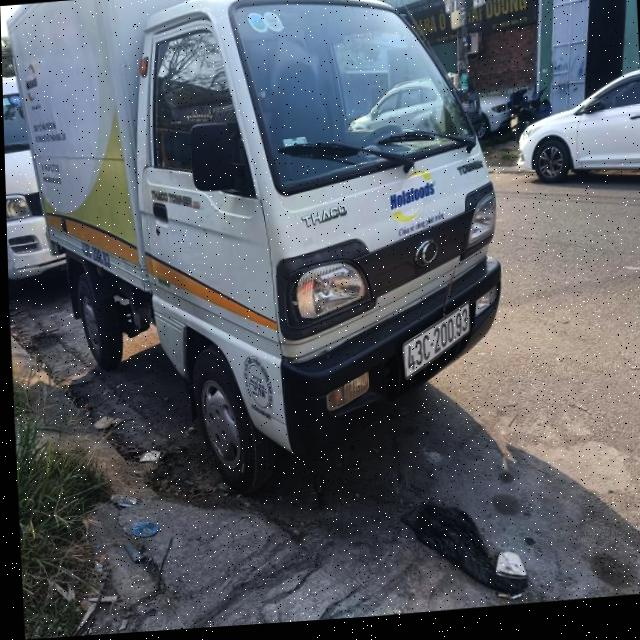car: (3, 0, 518, 527), (516, 65, 640, 206)
plate: (397, 303, 476, 380)
